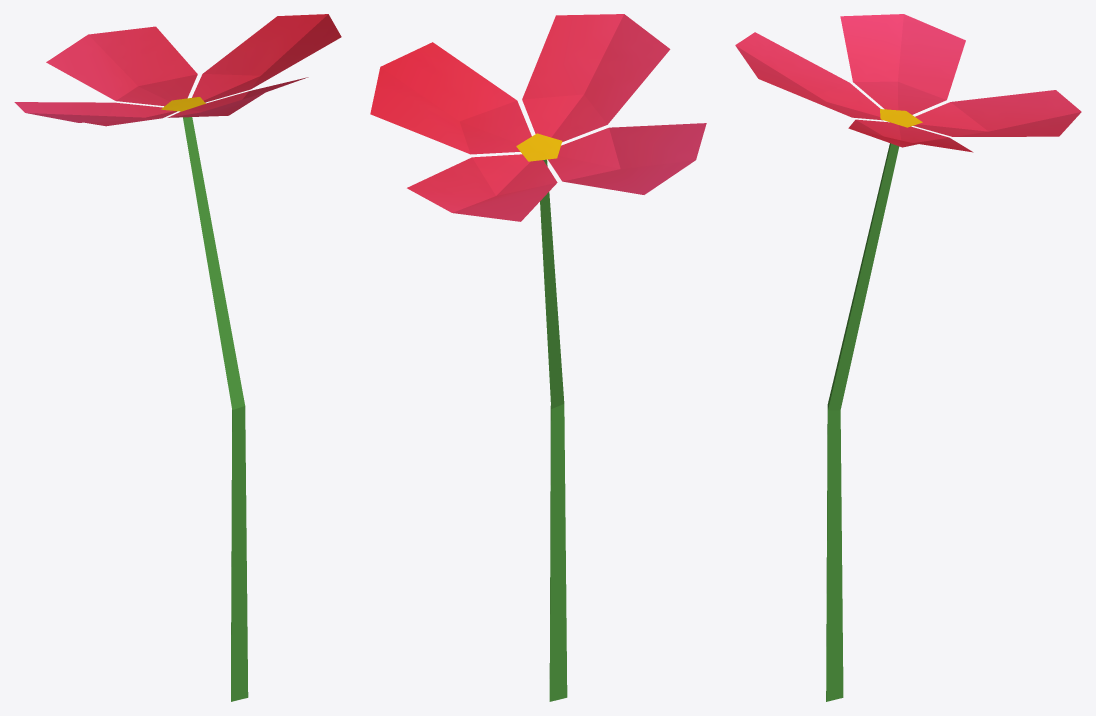
Rendered from flower.fbx.
3 renders of one model, left to right at view 1: azimuth 30°, elevation 25°; view 2: azimuth 150°, elevation 25°; view 3: azimuth 270°, elevation 25°, orthographic.
Visible parts, largest first — view 1: flower; view 2: flower; view 3: flower.
Boxes of the visible parts, x1,y1,x2,y2 form: flower: (14,14,341,701); flower: (370,14,706,701); flower: (735,14,1081,701).
Size of the model in its own units: 1.46 by 2.92 by 1.43.
